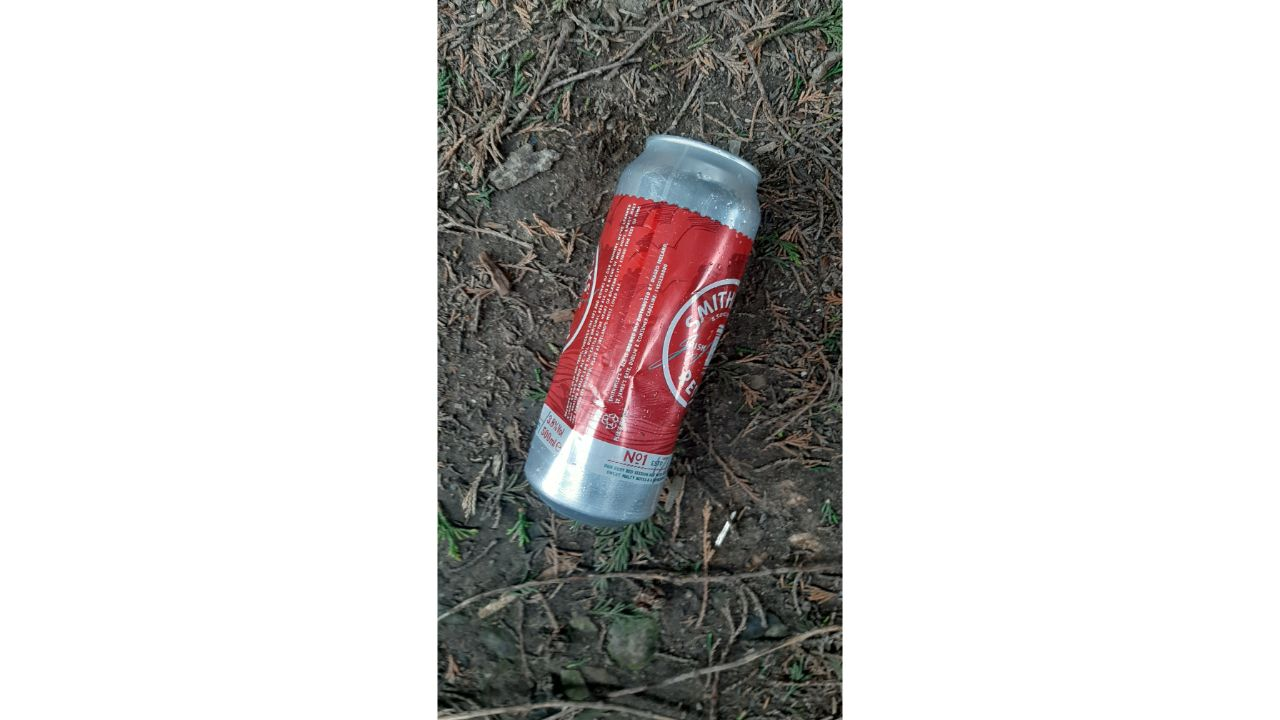Can: (522, 134, 764, 527)
